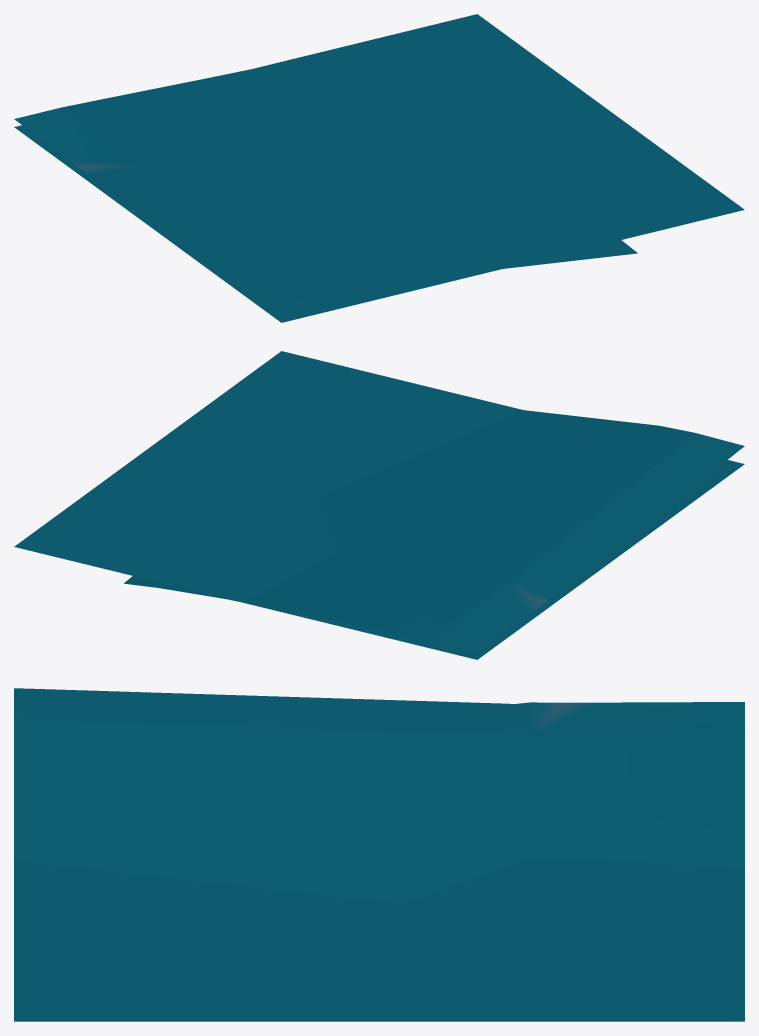
The picture shows the model from 3 angles, top to bottom: view 1: azimuth 30°, elevation 25°; view 2: azimuth 150°, elevation 25°; view 3: azimuth 270°, elevation 25°; orthographic projection. The views are drawn at different scales.
Visible parts, largest first — view 1: G:\FFXIV-MapTools\exports\s1f3\bg\ffxiv\sea_s1\fld\s1f3\bgpl (×2); view 2: G:\FFXIV-MapTools\exports\s1f3\bg\ffxiv\sea_s1\fld\s1f3\bgpl (×2); view 3: G:\FFXIV-MapTools\exports\s1f3\bg\ffxiv\sea_s1\fld\s1f3\bgpl (×2).
Boxes of the visible parts, bbox=[...] form: G:\FFXIV-MapTools\exports\s1f3\bg\ffxiv\sea_s1\fld\s1f3\bgpl (×2): bbox=[14, 14, 744, 322]; G:\FFXIV-MapTools\exports\s1f3\bg\ffxiv\sea_s1\fld\s1f3\bgpl (×2): bbox=[14, 351, 744, 659]; G:\FFXIV-MapTools\exports\s1f3\bg\ffxiv\sea_s1\fld\s1f3\bgpl (×2): bbox=[14, 688, 744, 1021].
Size of the model in its own units: 128 by 9.66 by 128.
